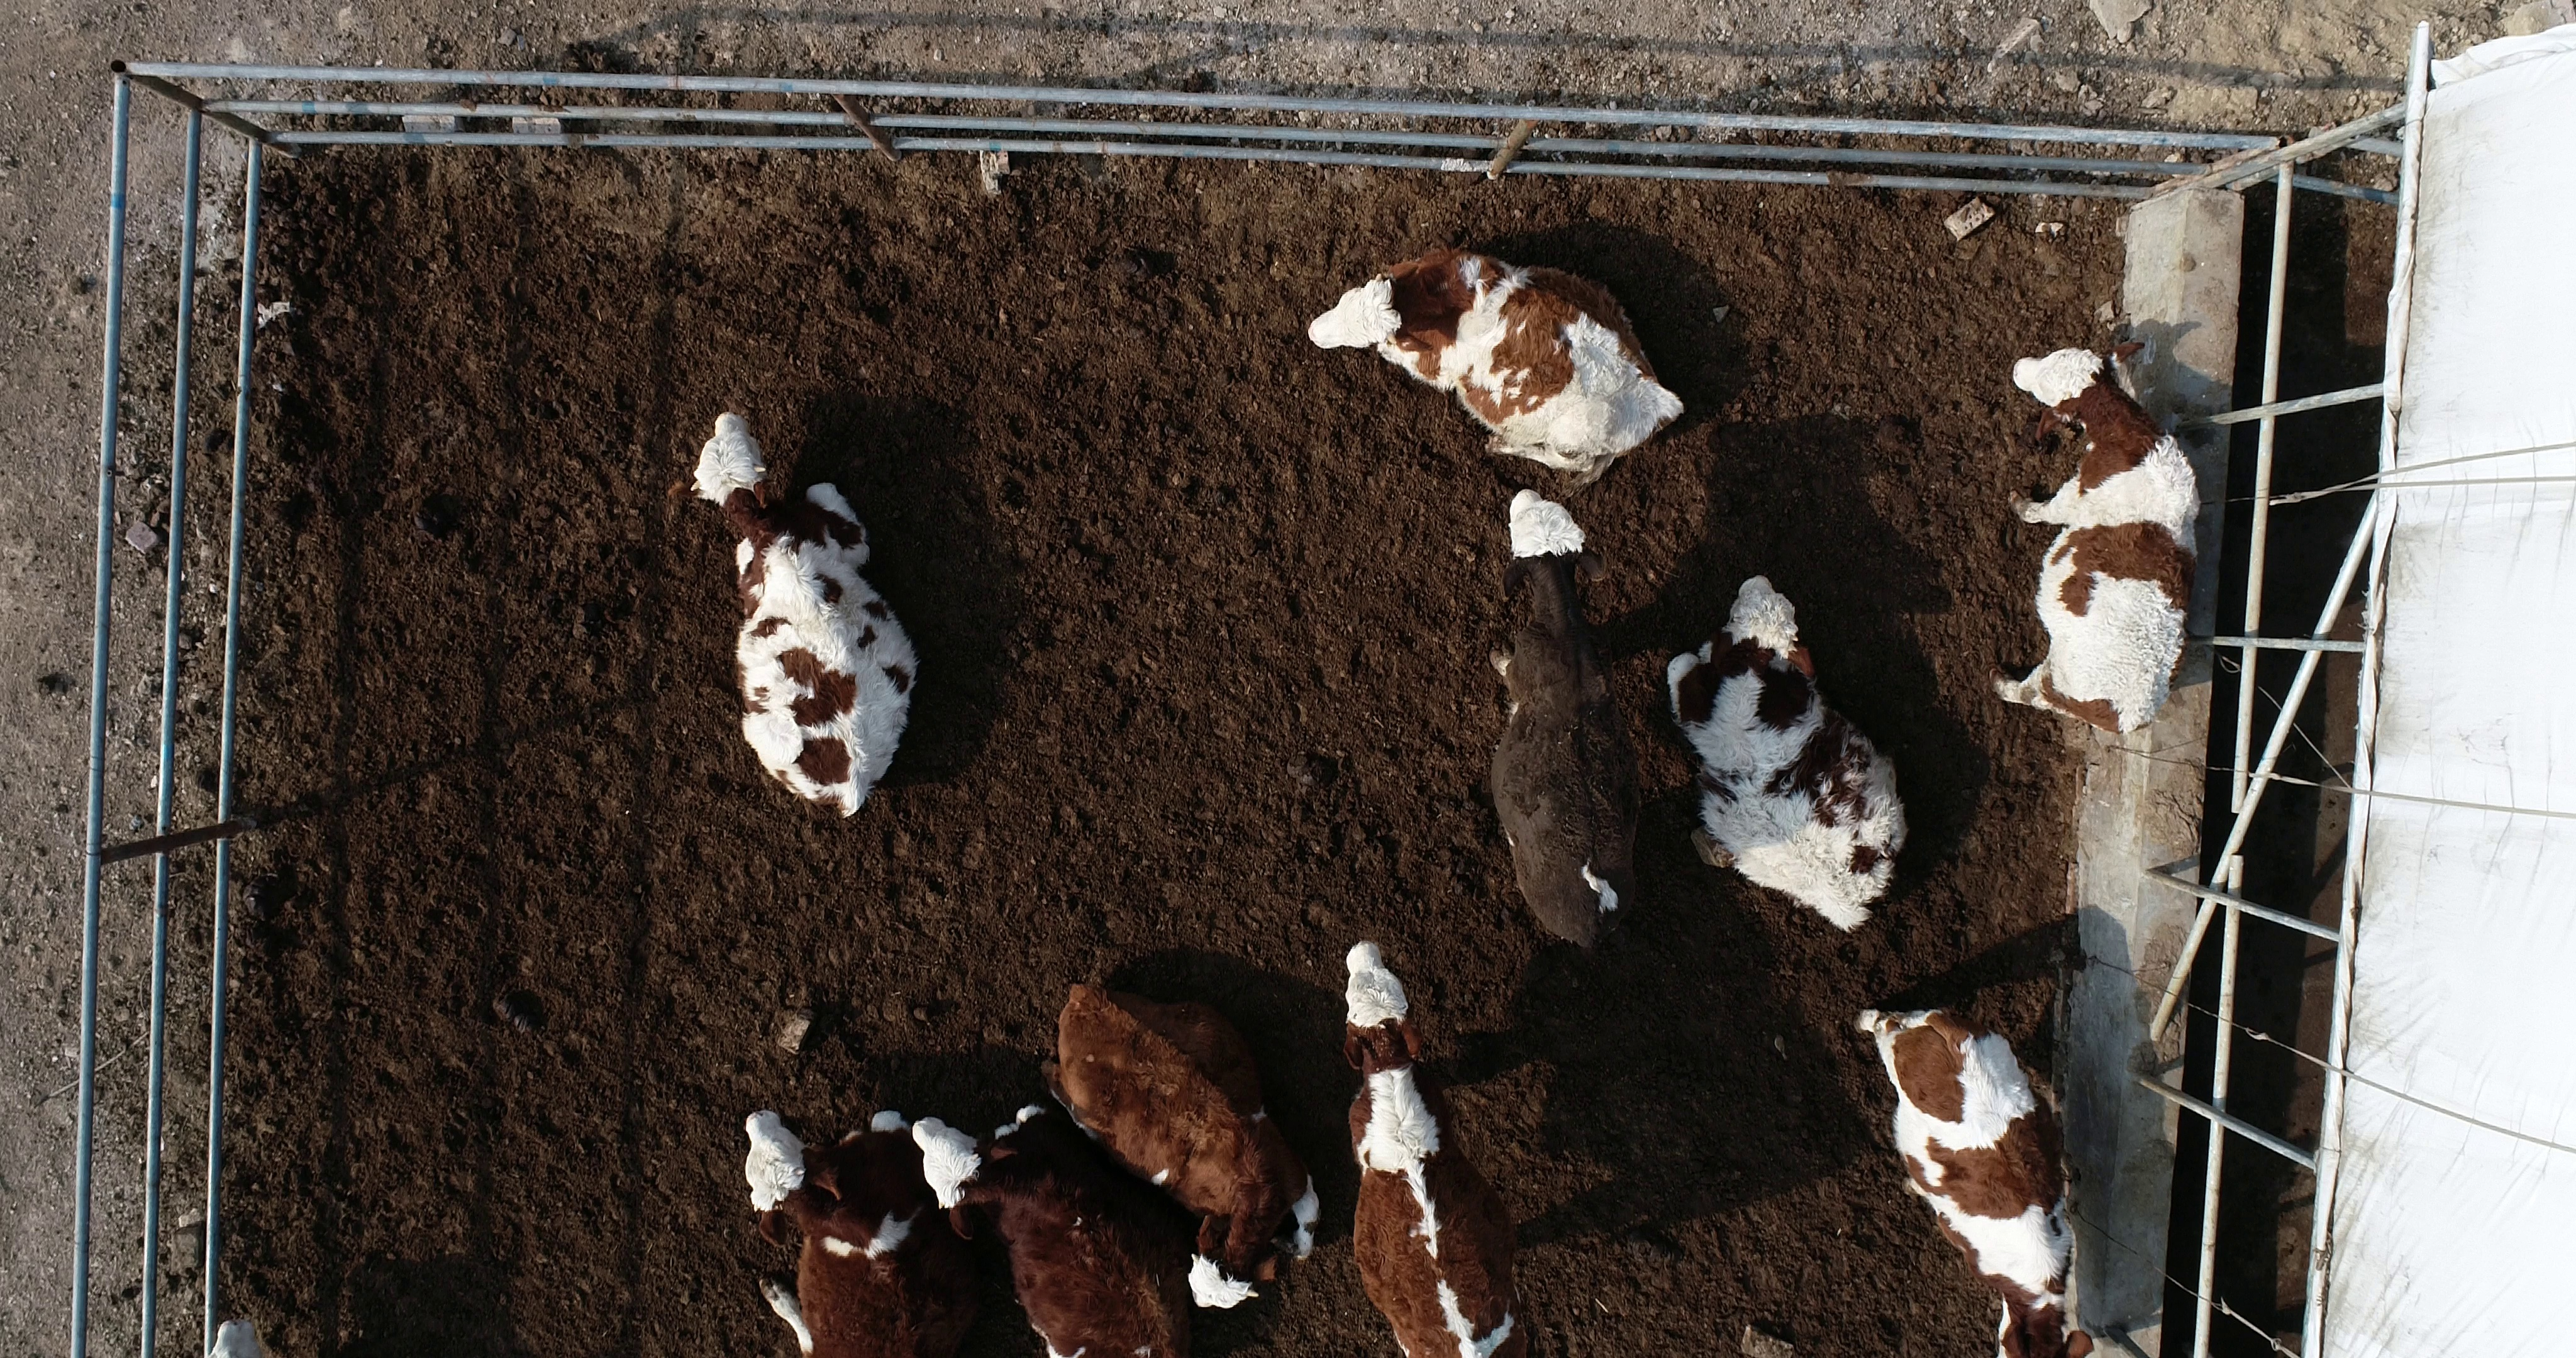cattle: (1029, 973, 1336, 1322), (676, 404, 927, 825), (1653, 562, 1918, 934), (1295, 242, 1688, 492), (1840, 995, 2106, 1358), (1983, 332, 2205, 750), (1479, 482, 1654, 959), (1336, 935, 1530, 1358)
